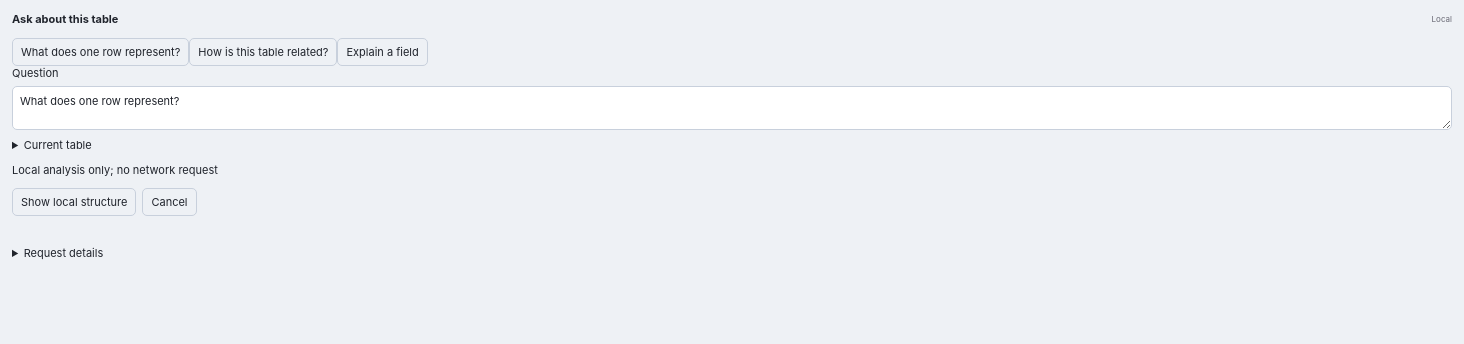
Test: task-first table understanding › labels the offline provider honestly and permits only a local action
Expected: the text "Local analysis only; no network request" is shown, [12,163,218,177]
Click the button "Show local structure". click: (74, 202)
box: [12,188,136,216]
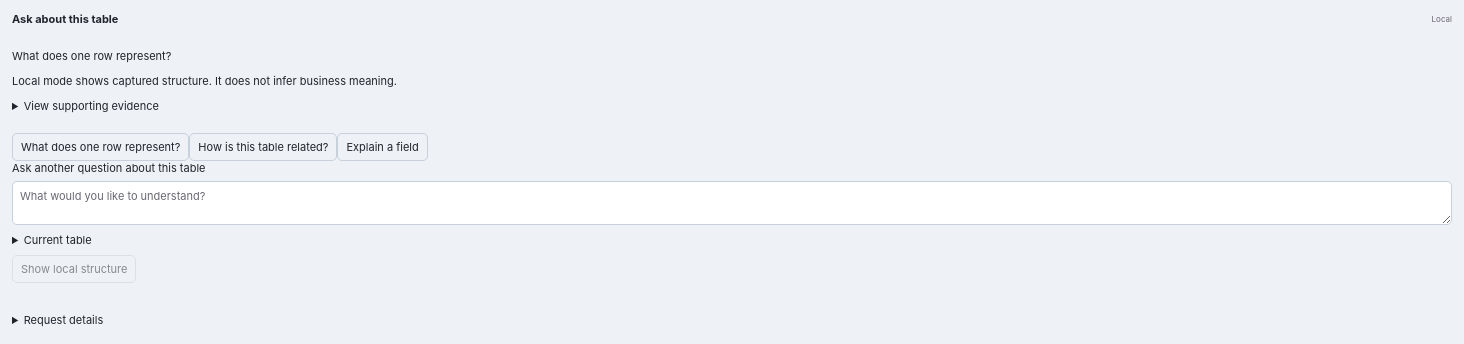
Expected: the text "does not infer business meaning" is shown, [12,74,397,88]
